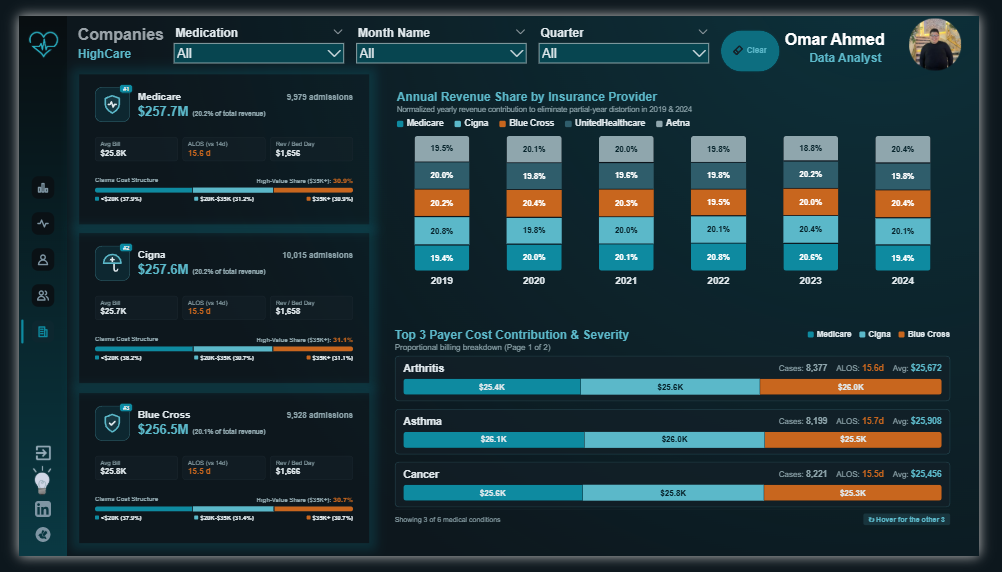

This screenshot's page, from the dashboard's own definition file:
{"tool":"powerbi","page":{"name":"Insurance Companies","canvas":[1920,1080],"ordinal":5},"visuals":[{"type":"slicer","fields":{"Values":["Dim_Date.Month Name"]},"box":[670,20,350,90],"z":0},{"type":"htmlContent443BE3AD55E043BF878BED274D3A6855","fields":{"content":["Dax_Measures.HTML_Card_Company1"]},"box":[120,118,580,298],"z":1000},{"type":"htmlContent443BE3AD55E043BF878BED274D3A6855","title":"KPI card 2","fields":{"content":["Dax_Measures.HTML_Card_Company2"]},"box":[120,436,580,298],"z":2000},{"type":"htmlContent443BE3AD55E043BF878BED274D3A6855","title":"Chart 3","fields":{"content":["Dax_Measures.HTML_Chart_Yearly_Payer_Share"]},"box":[718,117,1178,461],"z":3000},{"type":"htmlContent443BE3AD55E043BF878BED274D3A6855","title":"Chart 4","fields":{"content":["Dax_Measures.HTML_Chart_Condition_AvgBill"]},"box":[718,596,1178,458],"z":4000},{"type":"htmlContent443BE3AD55E043BF878BED274D3A6855","title":"KPI card 5","fields":{"content":["Dax_Measures.HTML_Card_Company3"]},"box":[120,755,580,298],"z":5000},{"type":"textbox","title":"Page title","box":[118,20,188,42],"z":6000},{"type":"textbox","title":"Subtitle","box":[118,58,167,41],"z":7000},{"type":"actionButton","title":"Go to Overview","box":[18,313,60,60],"z":8000},{"type":"actionButton","title":"Go to Hospitals","box":[18,385,60,60],"z":9000},{"type":"actionButton","title":"Go to Patients","box":[18,457,60,60],"z":10000},{"type":"actionButton","title":"Go to Doctors","box":[18,529,60,60],"z":11000},{"type":"actionButton","title":"Go to Insurance Companies","box":[18,601,60,60],"z":12000},{"type":"actionButton","title":"LinkedIn","box":[32,970,32,32],"z":13000},{"type":"actionButton","title":"Website","box":[32,1021,32,32],"z":14000},{"type":"image","title":"Logo","box":[14,26,68,64],"z":15000},{"type":"group","id":"g1","title":"Group 1","box":[1526,6,394,104],"z":16000},{"type":"slicer","fields":{"Values":["Dim_Medications.Medication"]},"box":[305,20,350,87.5],"z":17000},{"type":"slicer","fields":{"Values":["Dim_Date.Quarter"]},"box":[1035,20,350,90],"z":18000},{"type":"actionButton","box":[1400.7,18.1,124.9,90.5],"z":19000},{"type":"image","box":[10,837.5,77.5,72.5],"z":19001},{"type":"image","box":[18.1,892.2,59.7,72.4],"z":19002},{"type":"image","box":[1746,6,174,104],"z":20000,"group":"g1"},{"type":"textbox","box":[1526,30,206.5,78.1],"z":21000,"group":"g1"}]}

Visuals, with their boxes in screenshot pixels (x1, y1, x2, y2), scaled from the page's 1920x1080 canvas onto the 1002x572 screenshot:
slicer - Dim_Date.Month Name: [x1=350, y1=11, x2=532, y2=58]
htmlContent443BE3AD55E043BF878BED274D3A6855 - Dax_Measures.HTML_Card_Company1: [x1=63, y1=62, x2=365, y2=220]
"KPI card 2" htmlContent443BE3AD55E043BF878BED274D3A6855: [x1=63, y1=231, x2=365, y2=389]
"Chart 3" htmlContent443BE3AD55E043BF878BED274D3A6855: [x1=375, y1=62, x2=989, y2=306]
"Chart 4" htmlContent443BE3AD55E043BF878BED274D3A6855: [x1=375, y1=316, x2=989, y2=558]
"KPI card 5" htmlContent443BE3AD55E043BF878BED274D3A6855: [x1=63, y1=400, x2=365, y2=558]
"Page title" textbox: [x1=62, y1=11, x2=160, y2=33]
"Subtitle" textbox: [x1=62, y1=31, x2=149, y2=52]
"Go to Overview" actionButton: [x1=9, y1=166, x2=41, y2=198]
"Go to Hospitals" actionButton: [x1=9, y1=204, x2=41, y2=236]
"Go to Patients" actionButton: [x1=9, y1=242, x2=41, y2=274]
"Go to Doctors" actionButton: [x1=9, y1=280, x2=41, y2=312]
"Go to Insurance Companies" actionButton: [x1=9, y1=318, x2=41, y2=350]
"LinkedIn" actionButton: [x1=17, y1=514, x2=33, y2=531]
"Website" actionButton: [x1=17, y1=541, x2=33, y2=558]
"Logo" image: [x1=7, y1=14, x2=43, y2=48]
"Group 1" group: [x1=796, y1=3, x2=1001, y2=58]
slicer - Dim_Medications.Medication: [x1=159, y1=11, x2=342, y2=57]
slicer - Dim_Date.Quarter: [x1=540, y1=11, x2=723, y2=58]
actionButton: [x1=731, y1=10, x2=796, y2=58]
image: [x1=5, y1=444, x2=46, y2=482]
image: [x1=9, y1=473, x2=41, y2=511]
image: [x1=911, y1=3, x2=1001, y2=58]
textbox: [x1=796, y1=16, x2=904, y2=57]
